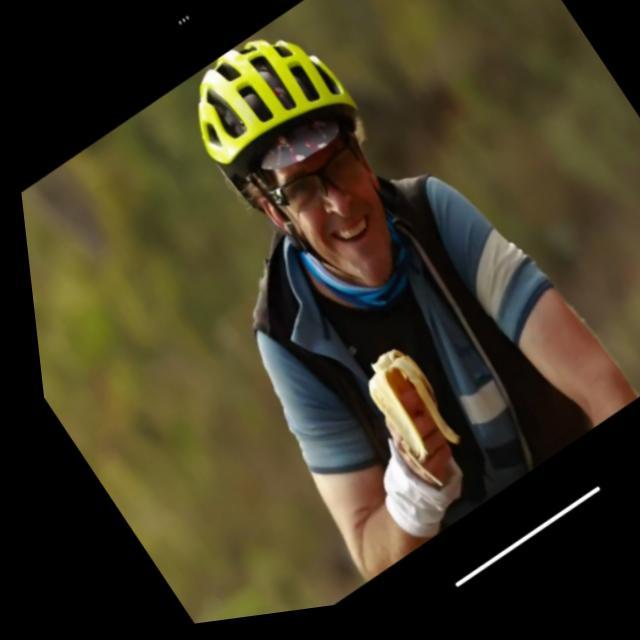Helmet: (194, 34, 394, 271)
